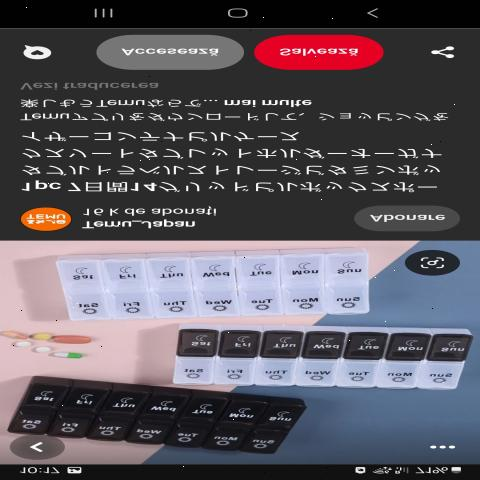PillBox: (9, 371, 333, 460), (166, 323, 480, 394)
